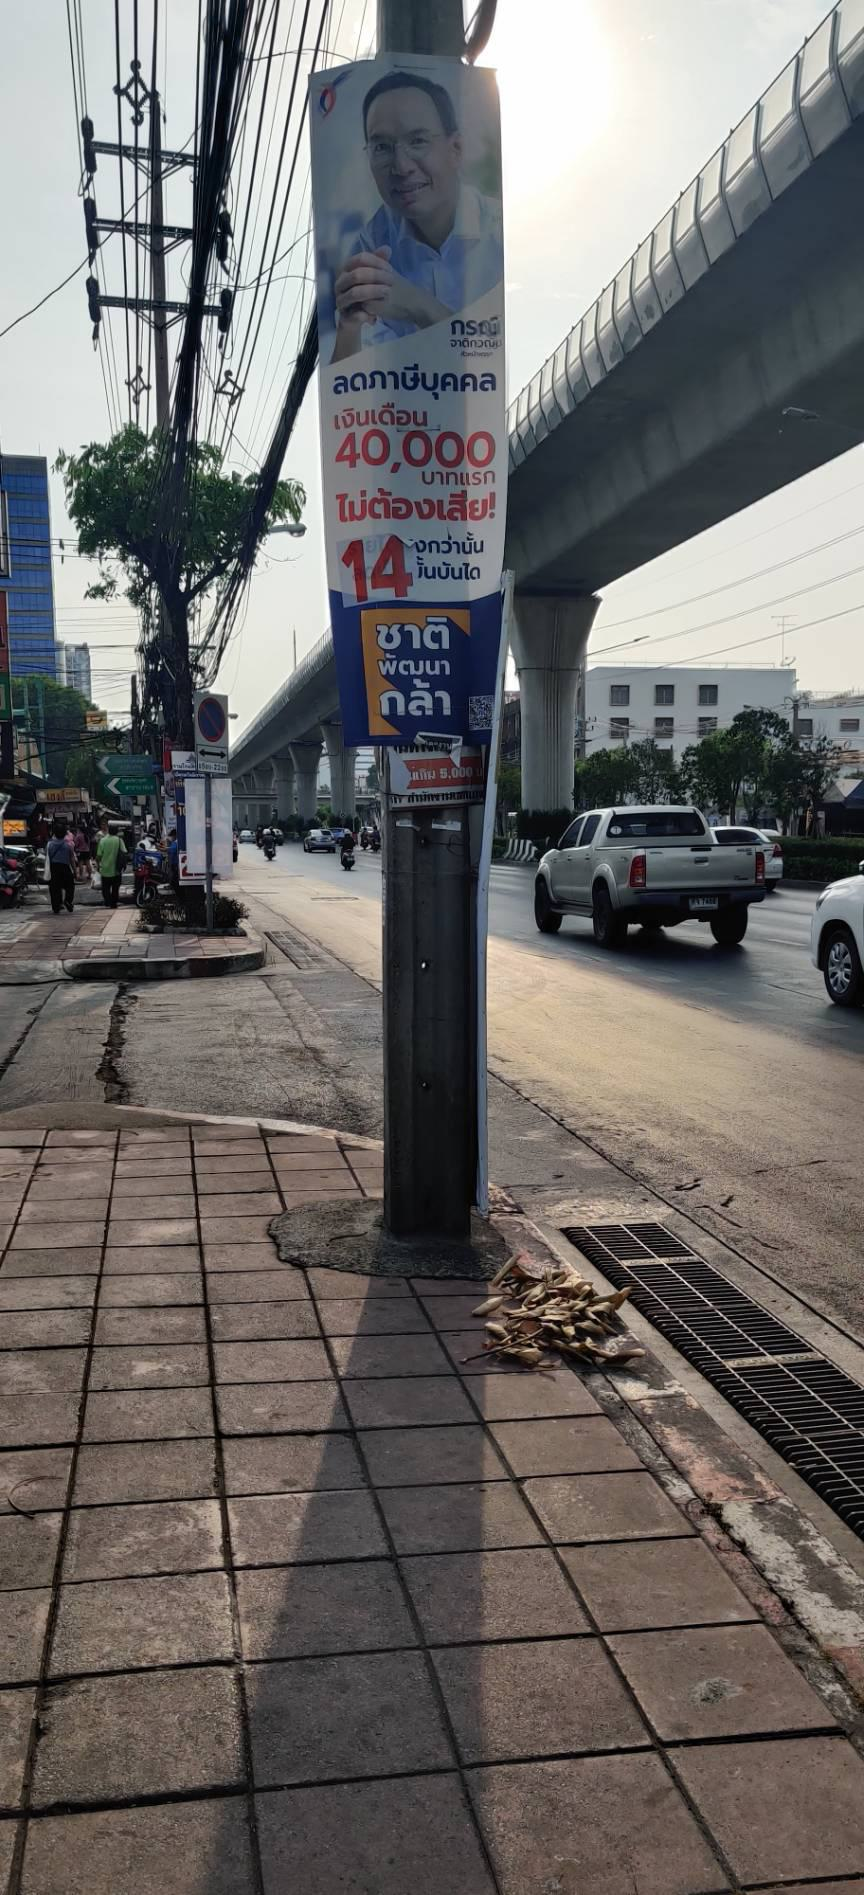Banner: (295, 76, 537, 815)
